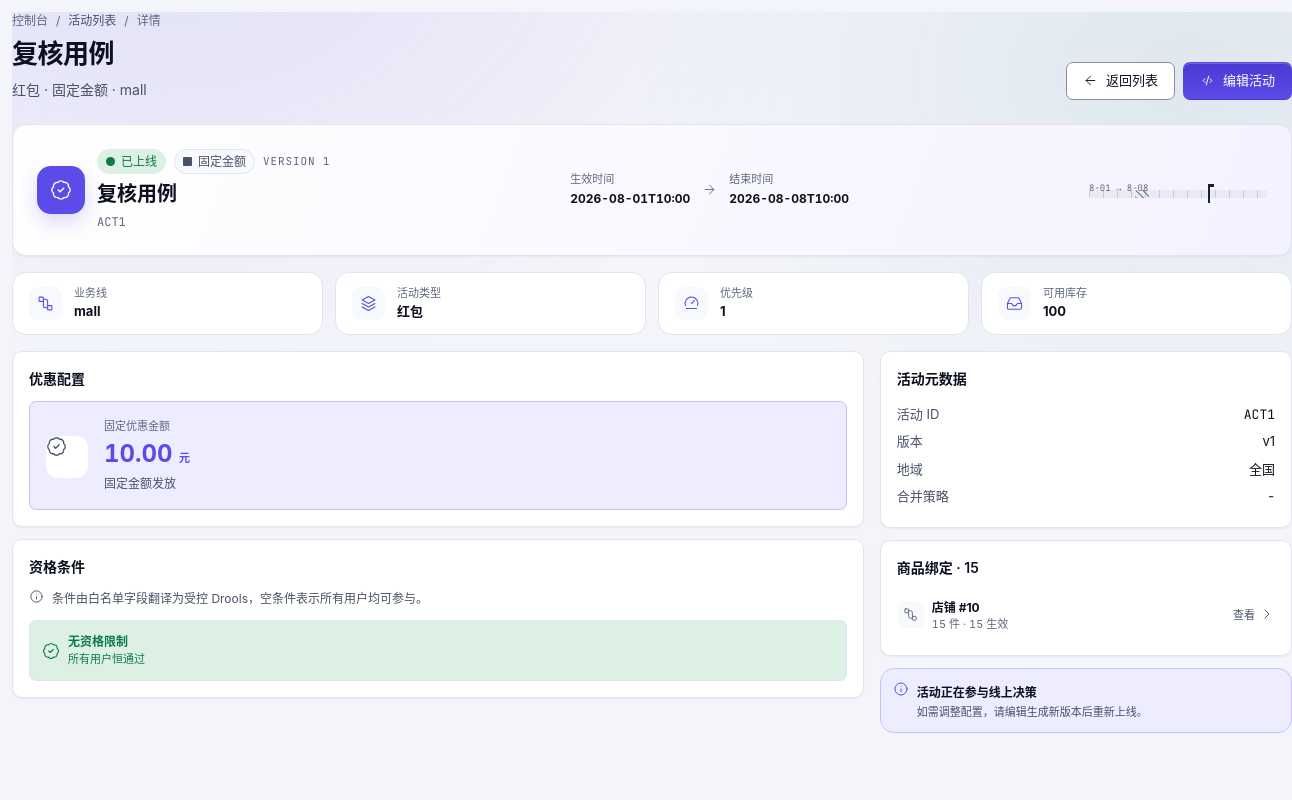
Test: DetailView 商品绑定：店铺聚合 + 点击下钻 › 翻页请求下一页（page 递增）
Click the button with class "store-row" at (956, 607), box [897,590,1275,639]
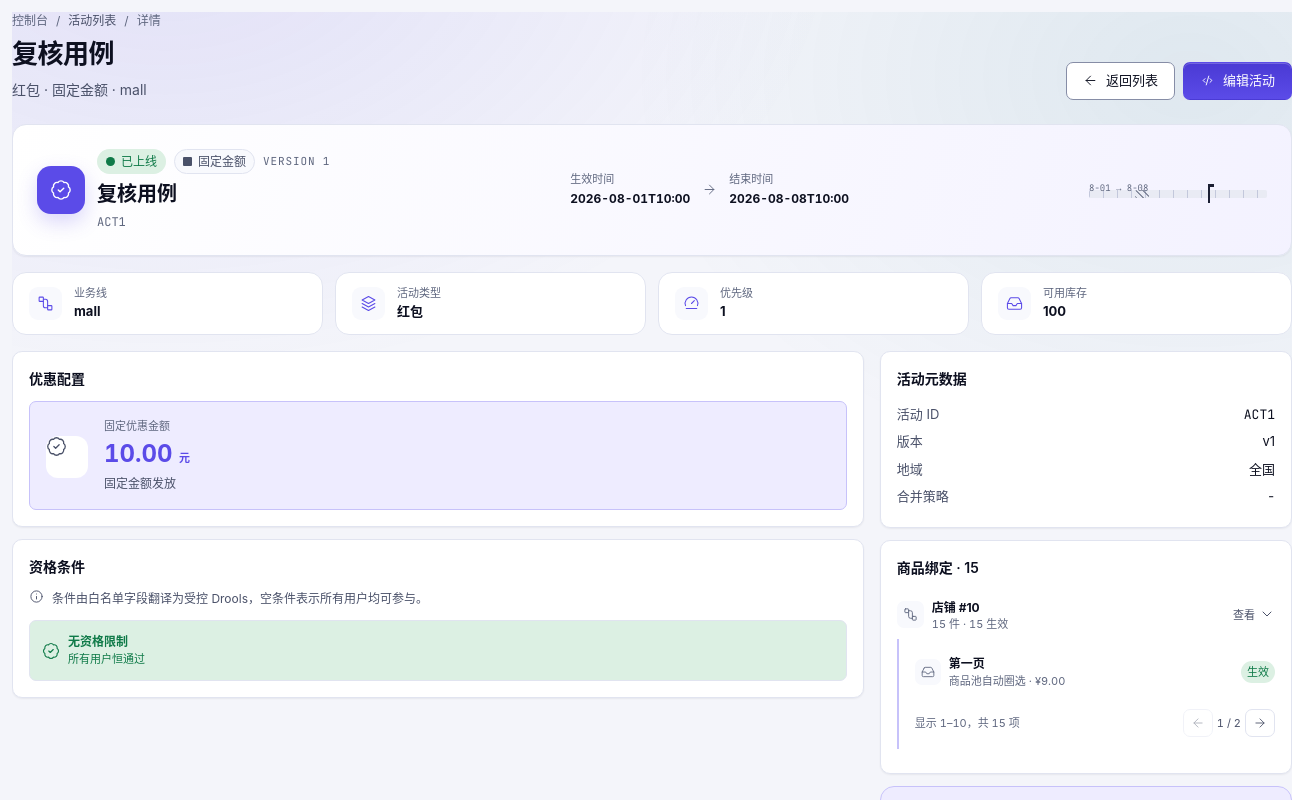
Now the text "第一页" is shown, box [949,656,985,671]
Click the button with test id "binding-spu-next" at (1260, 723), box [1245,709,1275,737]
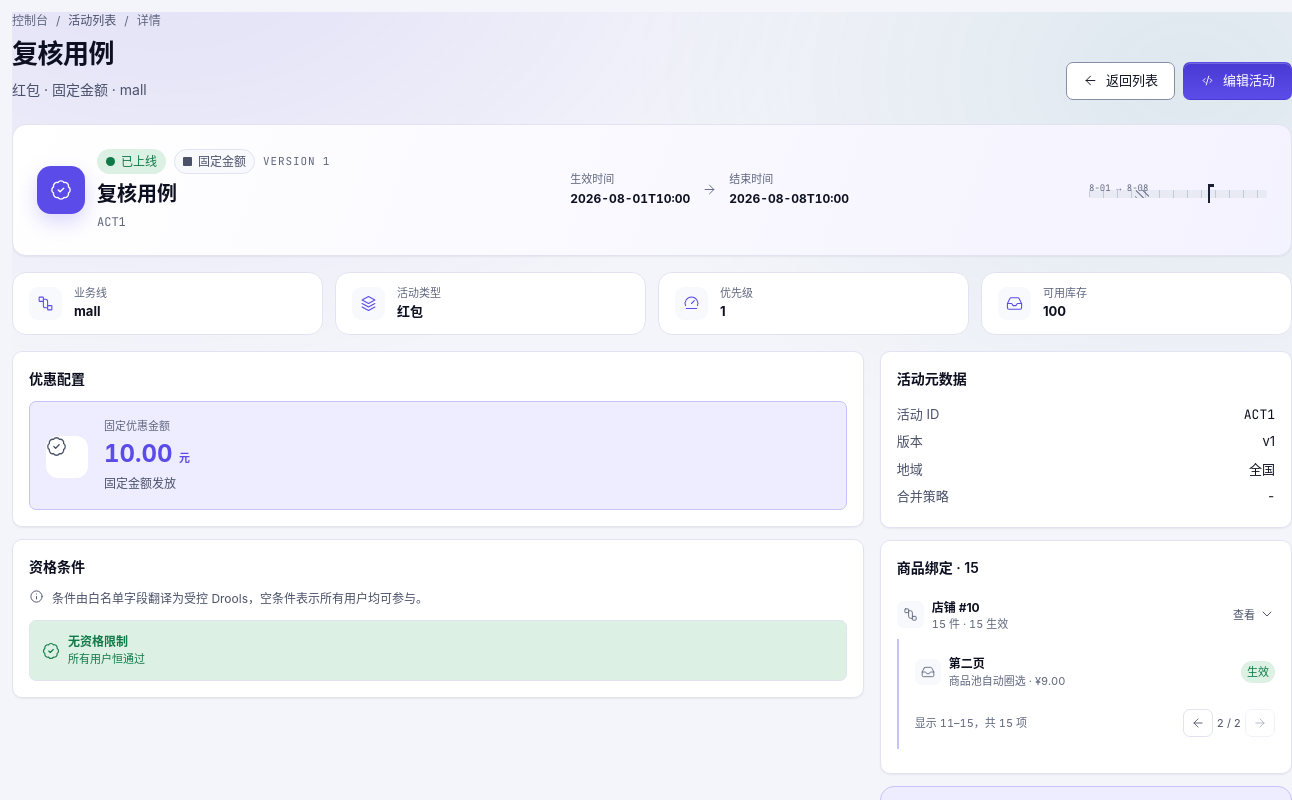
Now the text "第二页" is shown, box [949,656,985,671]
